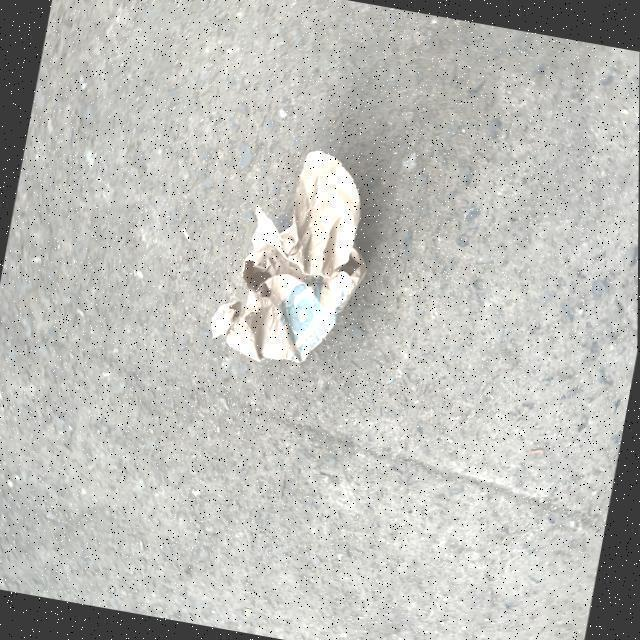Paper_Bag: (210, 138, 382, 378)
